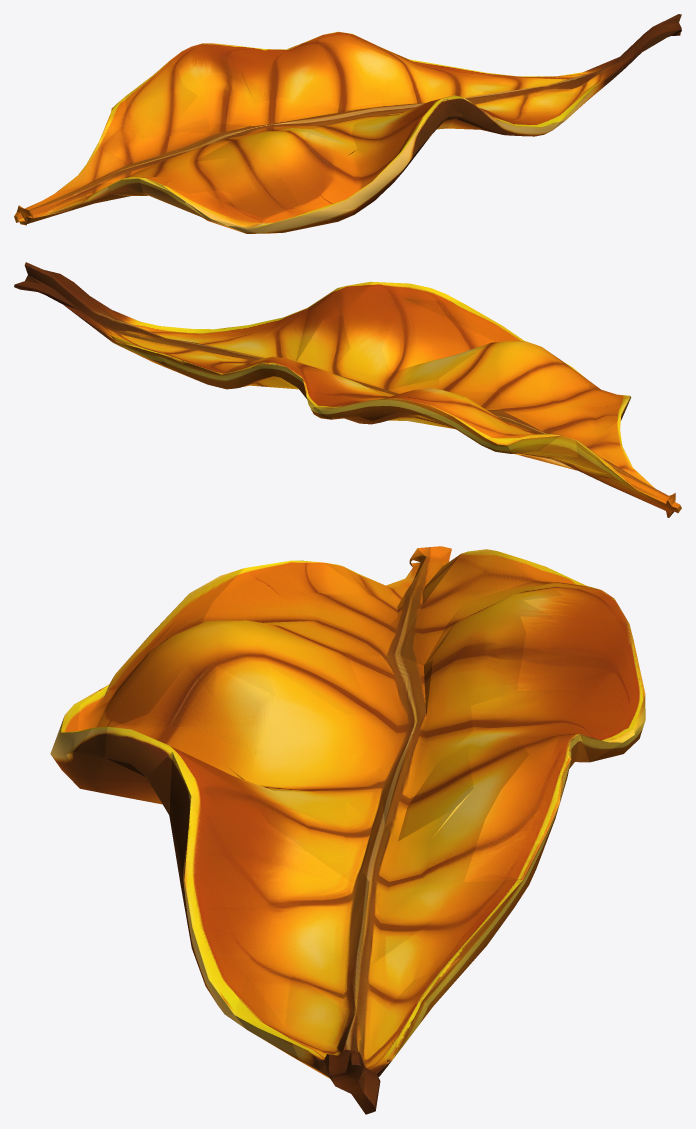
File: leaf_c.glb
The picture shows the model from 3 angles, top to bottom: view 1: azimuth 30°, elevation 25°; view 2: azimuth 150°, elevation 25°; view 3: azimuth 270°, elevation 25°; orthographic projection. The views are drawn at different scales.
Size of the model in its own units: 1.9 by 0.2636 by 0.7512.
1 material, 1 textured.
